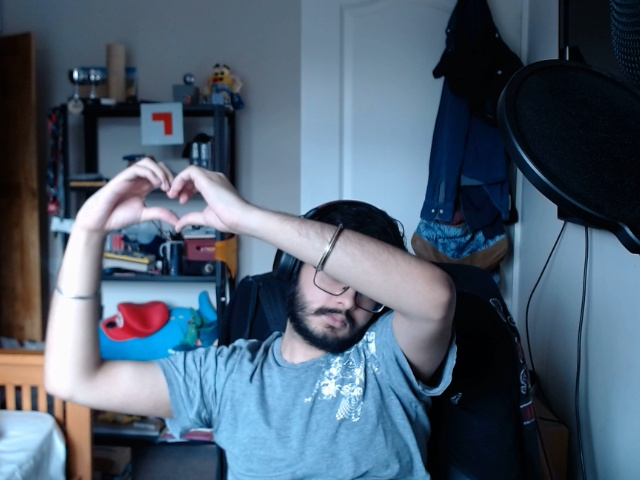Heart: (87, 153, 255, 239)
